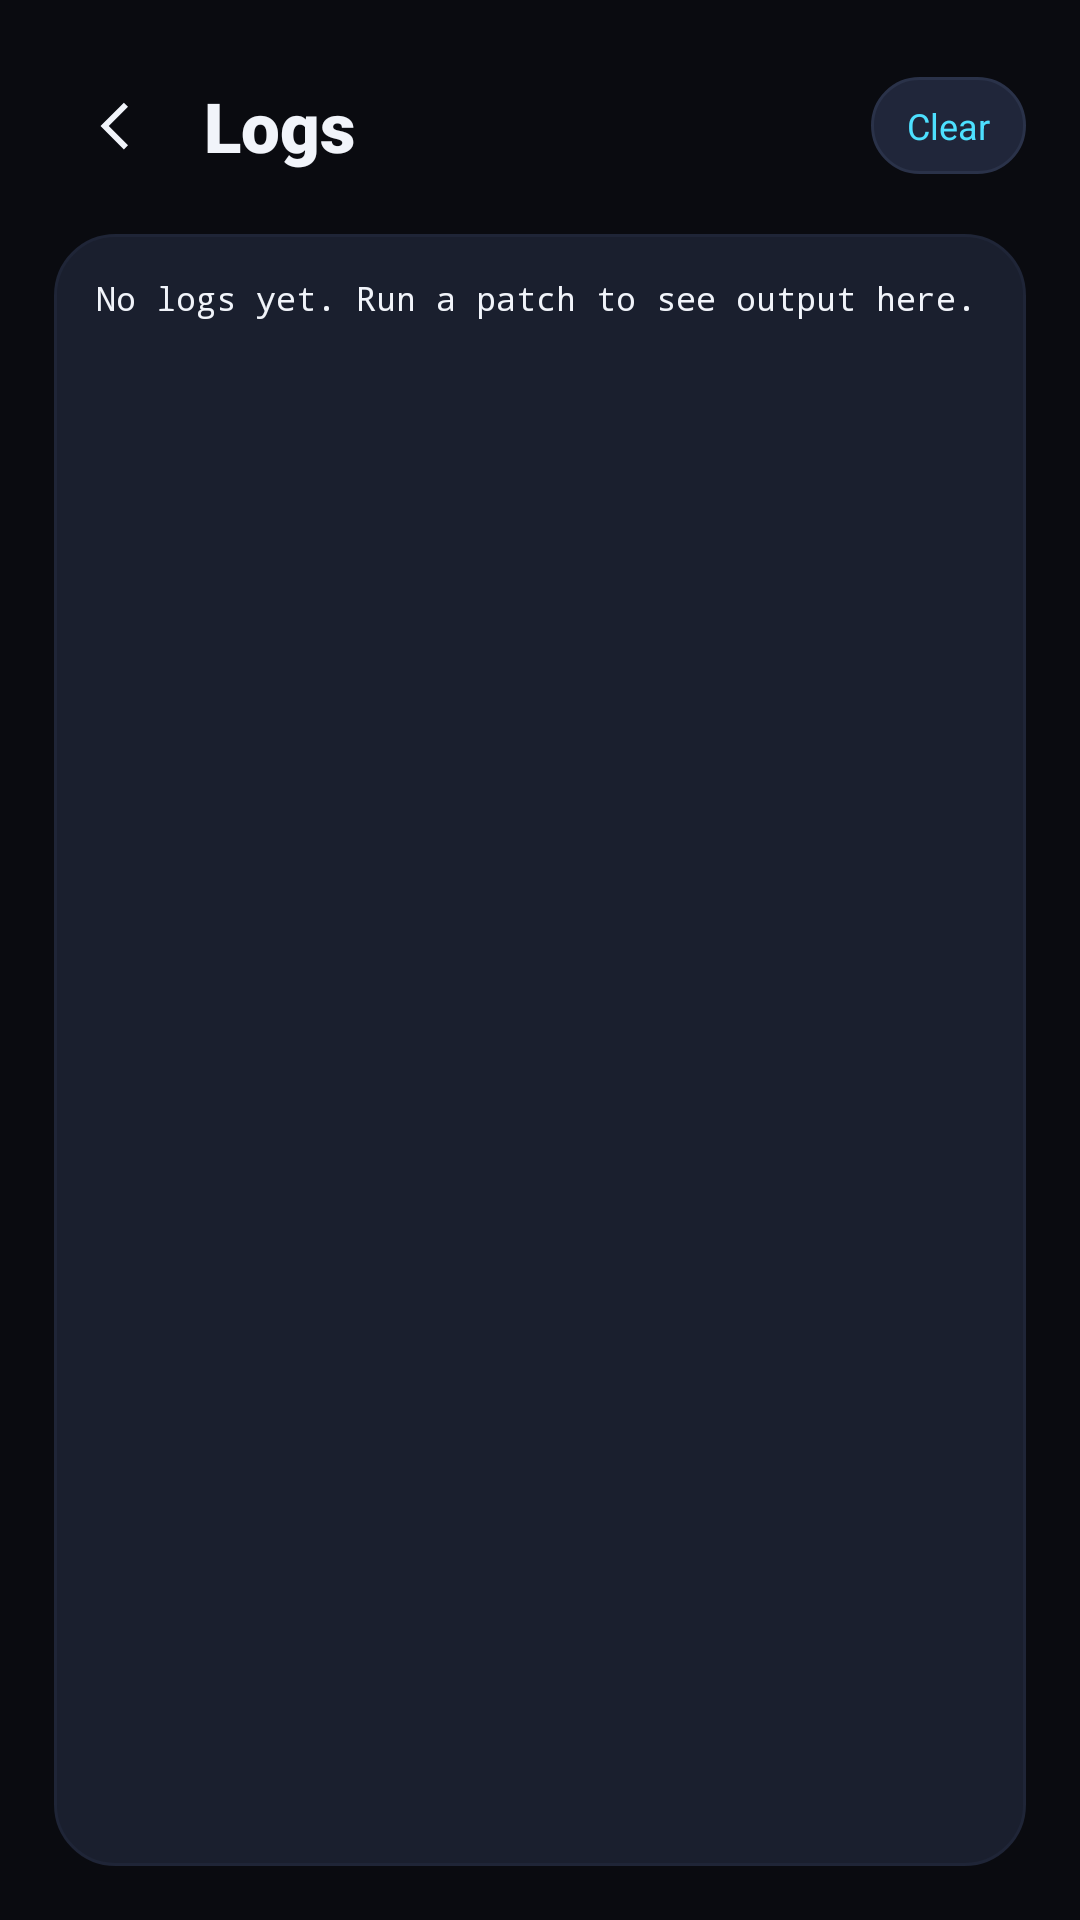

Screen size 1080px x 1920px. Icon name, then its box in pixels as {"x1": x1, "y1": y1, "x2": x2, "y2": y2}:
back: {"x1": 100, "y1": 103, "x2": 128, "y2": 150}
